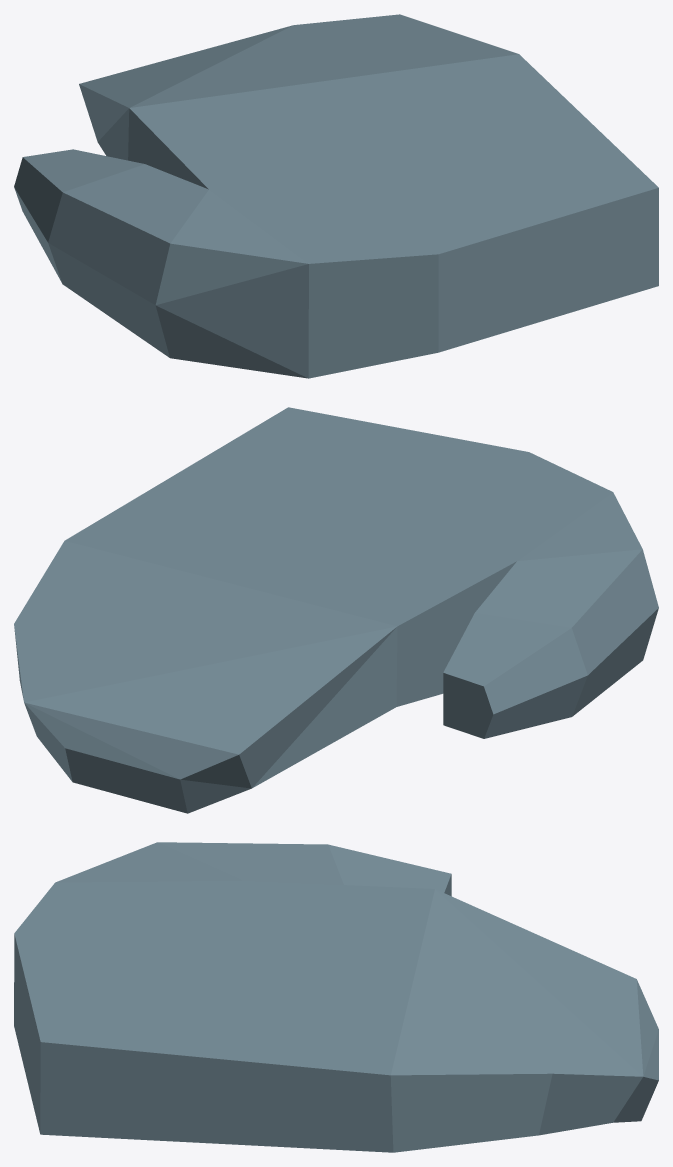
The model's file is hand.fbx.
3 renders of one model, top to bottom at view 1: azimuth 30°, elevation 25°; view 2: azimuth 150°, elevation 25°; view 3: azimuth 270°, elevation 25°, orthographic. The views are drawn at different scales.
Parts seen in each view (by area): view 1: group_598558126; view 2: group_598558126; view 3: group_598558126.
Boxes of the visible parts, x1=… form: group_598558126: x1=14, y1=14, x2=658, y2=378; group_598558126: x1=14, y1=407, x2=658, y2=813; group_598558126: x1=14, y1=842, x2=658, y2=1152.
Size of the model in its own units: 46.38 by 12.21 by 54.26.
